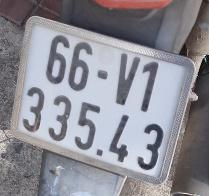1: (130, 58, 170, 119)
3: (128, 118, 173, 181), (13, 79, 56, 142), (36, 89, 79, 150)
4: (100, 107, 141, 169)
5: (66, 95, 107, 159)
6: (57, 33, 101, 99), (36, 29, 78, 89)
V: (108, 42, 149, 110)
